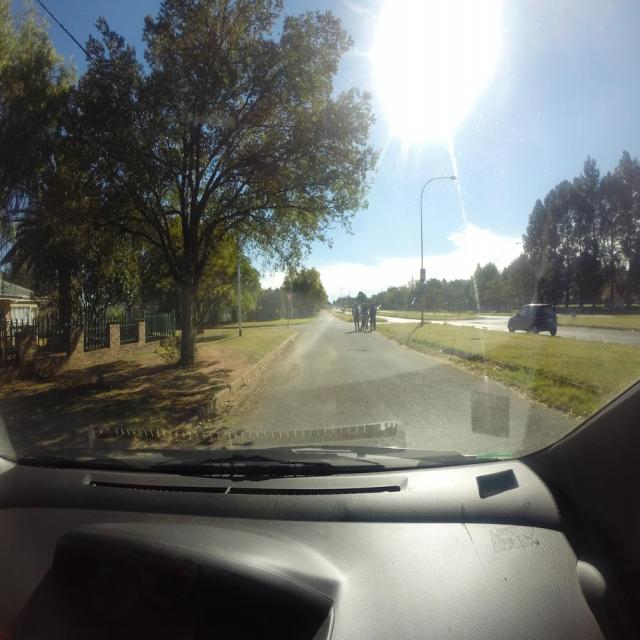Pothole: (349, 349, 369, 352)
